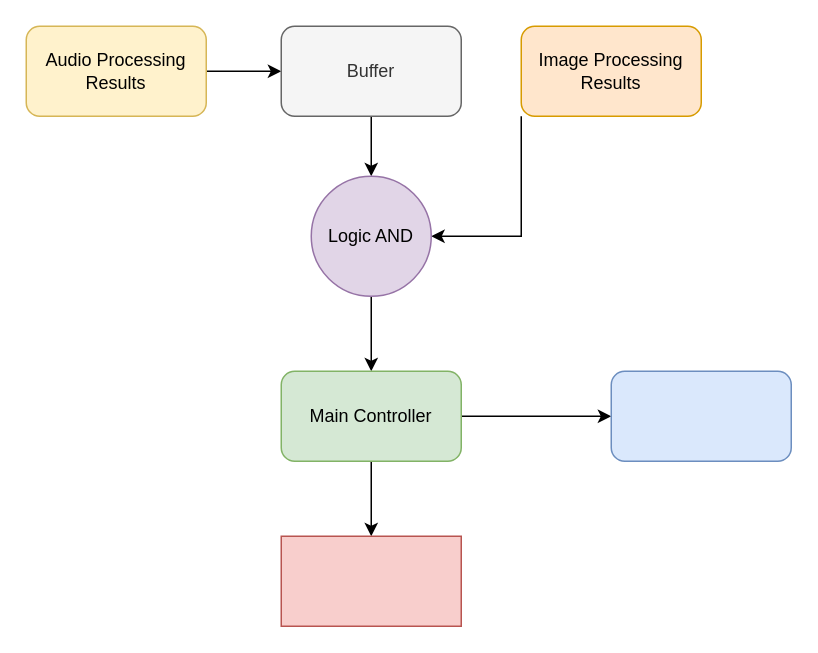
The diagram is 818 pixels wide and 653 high, and some of its shapes have lost their labels. Here are the shapes that lost their labels. From the top down, the centre of each, then its label:
At (x=700, y=415): "Dashboard".
At (x=370, y=580): "LED Strip".
